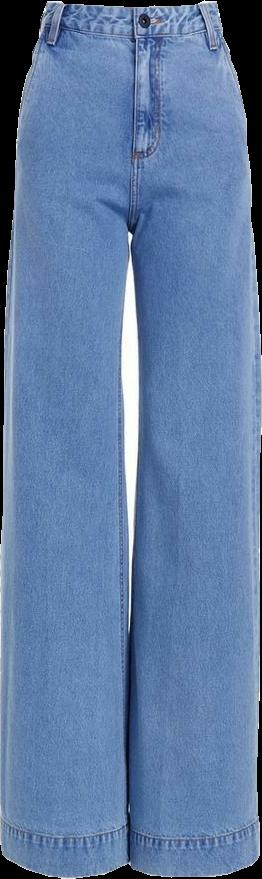Hemline: (0, 845, 136, 878), (126, 848, 261, 878)
Pantleg: (0, 3, 139, 878), (126, 2, 260, 876)
Waistline: (38, 19, 224, 45), (44, 0, 220, 15)
